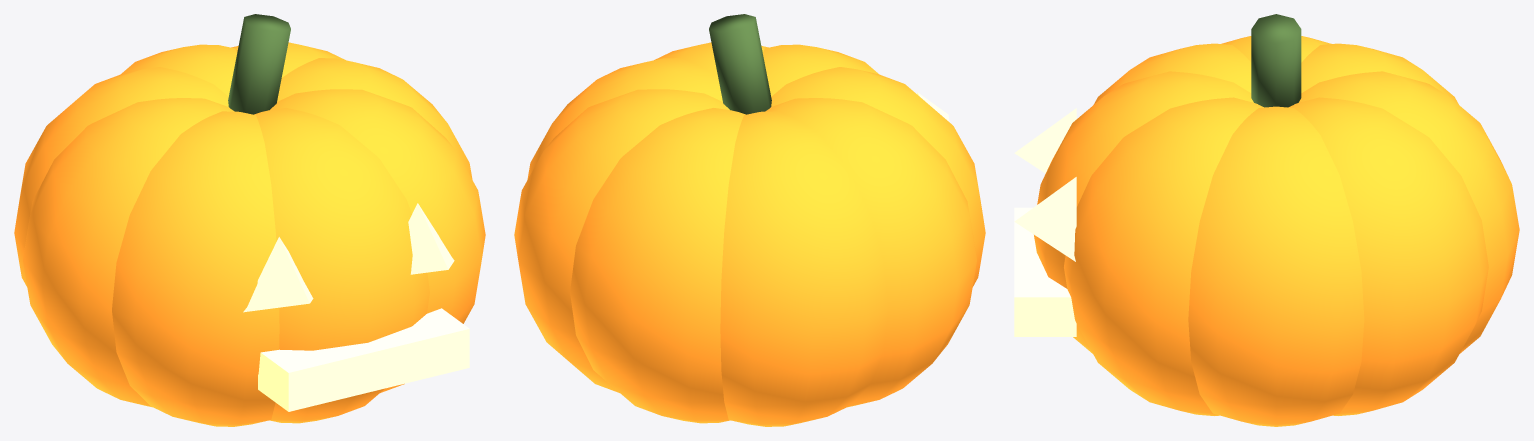
File: pumpkin.glb
3 views of the same model, side by side, from view 1: azimuth 30°, elevation 25°; view 2: azimuth 150°, elevation 25°; view 3: azimuth 270°, elevation 25° (orthographic).
Parts seen in each view (by area): view 1: Sphere.005, Sphere.006, Sphere.004, Sphere.007, Cube, Sphere.003, Sphere, Cylinder, Sphere.002, Cone, Cone.001, Sphere.001; view 2: Sphere.003, Sphere.002, Sphere.004, Sphere.001, Sphere.005, Sphere, Cylinder, Sphere.006, Sphere.007; view 3: Sphere, Sphere.001, Sphere.007, Sphere.002, Sphere.006, Cube, Cylinder, Sphere.005, Sphere.003, Cone.001, Cone, Sphere.004.
Part boxes in pixels (bbox=[...]): Sphere.005: bbox=[112, 111, 279, 426]; Sphere.006: bbox=[254, 108, 429, 423]; Sphere.004: bbox=[23, 98, 234, 407]; Sphere.007: bbox=[270, 89, 485, 392]; Cube: bbox=[258, 308, 469, 411]; Sphere.003: bbox=[14, 67, 228, 286]; Sphere: bbox=[277, 58, 472, 179]; Cylinder: bbox=[228, 14, 290, 114]; Sphere.002: bbox=[121, 44, 236, 96]; Cone: bbox=[243, 237, 313, 312]; Cone.001: bbox=[408, 203, 454, 274]; Sphere.001: bbox=[231, 42, 345, 77]; Sphere.003: bbox=[720, 111, 887, 426]; Sphere.002: bbox=[570, 108, 745, 423]; Sphere.004: bbox=[765, 98, 976, 407]; Sphere.001: bbox=[514, 89, 729, 392]; Sphere.005: bbox=[771, 67, 985, 286]; Sphere: bbox=[527, 58, 722, 179]; Cylinder: bbox=[709, 14, 771, 114]; Sphere.006: bbox=[763, 44, 878, 96]; Sphere.007: bbox=[654, 42, 768, 77]; Sphere: bbox=[1188, 106, 1364, 426]; Sphere.001: bbox=[1288, 97, 1488, 415]; Sphere.007: bbox=[1064, 97, 1264, 415]; Sphere.002: bbox=[1298, 71, 1519, 353]; Sphere.006: bbox=[1034, 71, 1253, 353]; Cube: bbox=[1014, 207, 1076, 336]; Cylinder: bbox=[1251, 14, 1301, 107]; Sphere.005: bbox=[1093, 43, 1251, 104]; Sphere.003: bbox=[1301, 43, 1458, 104]; Cone.001: bbox=[1014, 177, 1076, 261]; Cone: bbox=[1014, 108, 1076, 173]; Sphere.004: bbox=[1221, 36, 1331, 62].
Size of the model in its own units: 1.56 by 1.28 by 1.62.
